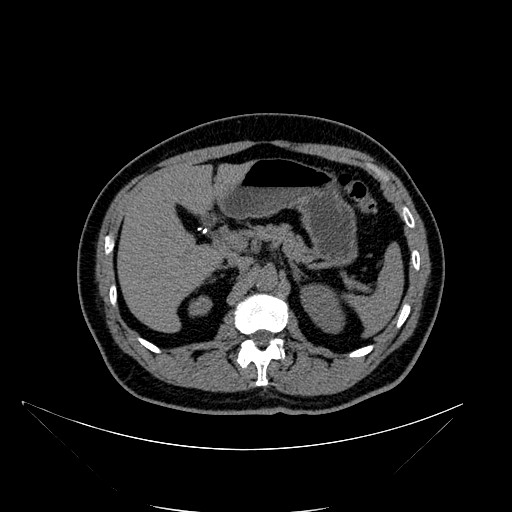clipe: (196, 226, 208, 235), (202, 228, 208, 235), (196, 226, 203, 232)
